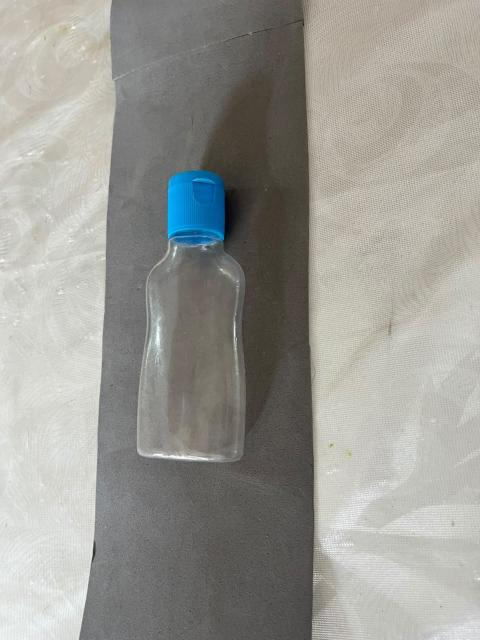PET: (90, 104, 337, 549)
